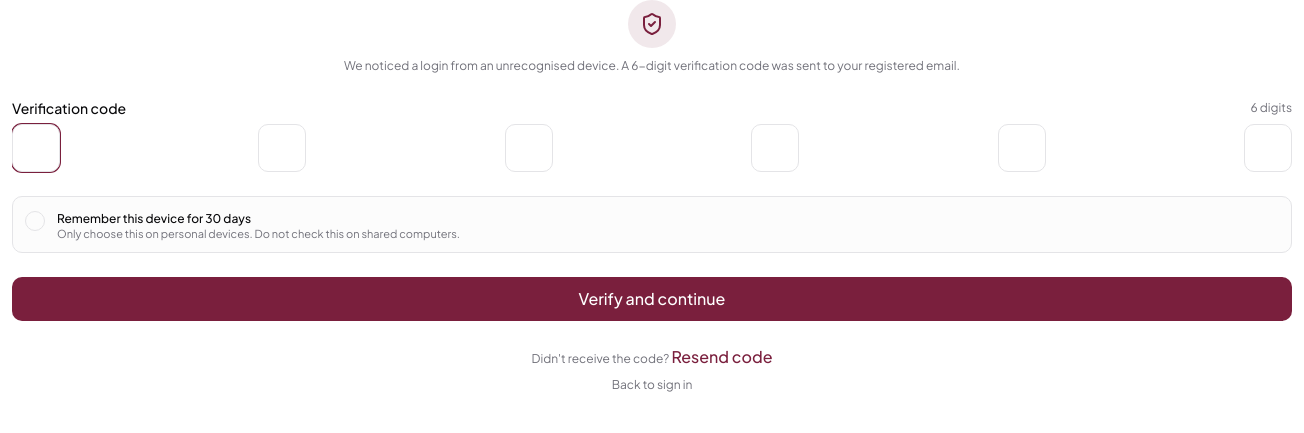
Test: VerifyDeviceForm (F10) › shows validation error when submitting with incomplete code
This screenshot has width=1304, height=433.
Type "1" into the field named "Digit 1 of 6" at (36, 148), box left=12, top=124, right=60, bottom=172
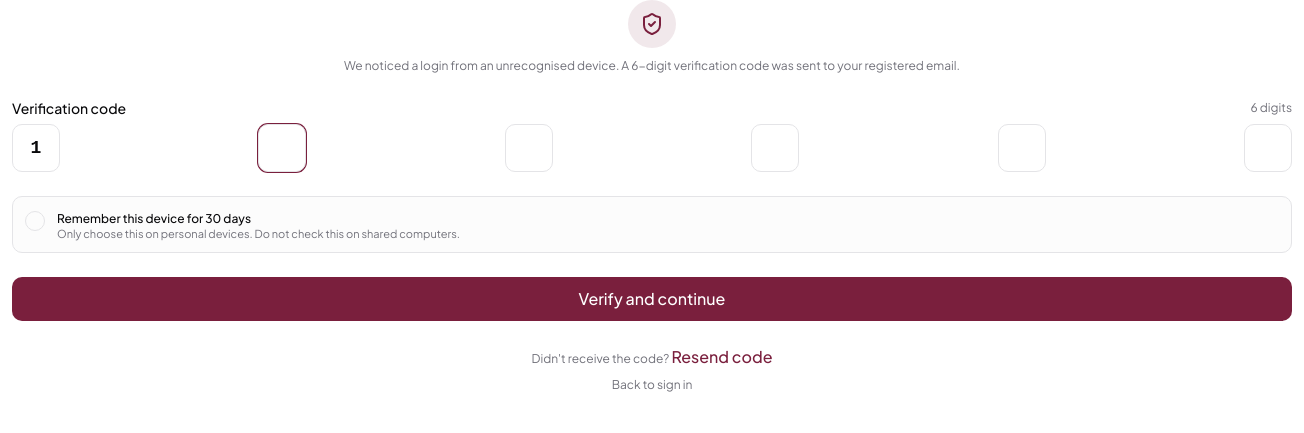
Type "2" into the field named "Digit 2 of 6" at (282, 148), box left=258, top=124, right=306, bottom=172
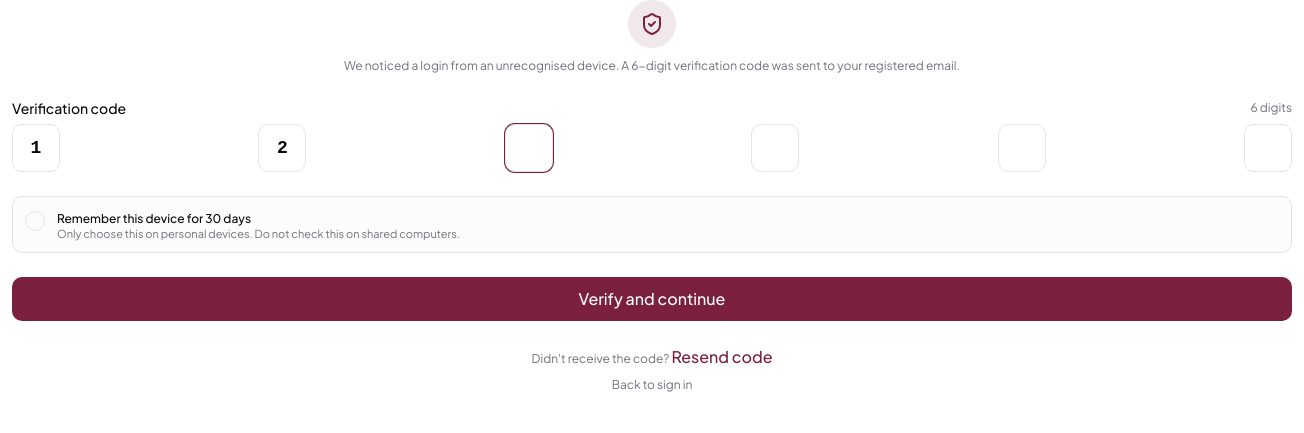
Click the button "Verify and continue" at (652, 299), box left=12, top=277, right=1292, bottom=321
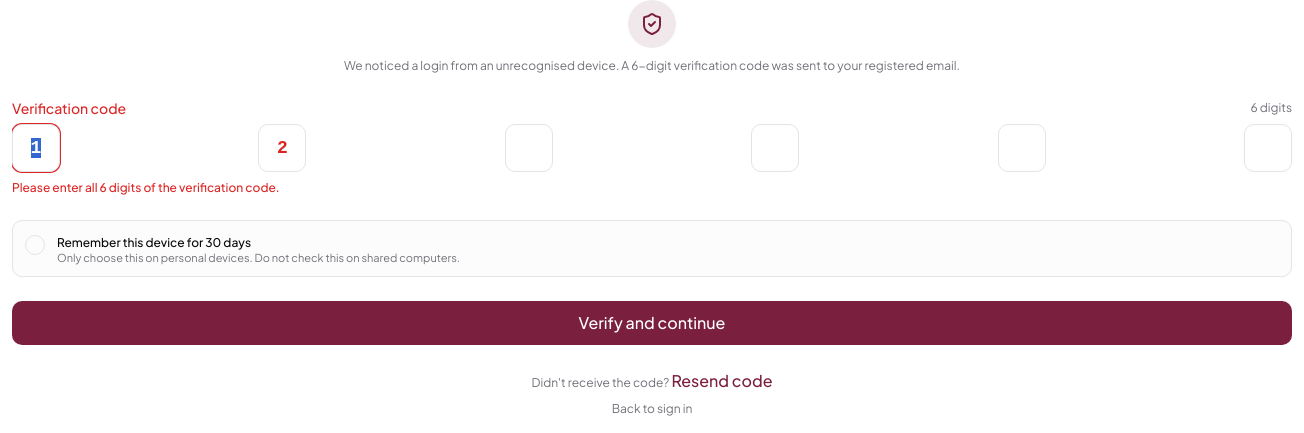
expect the text "Please enter all 6 digits of the verification code." is shown: met, box left=12, top=180, right=280, bottom=194
